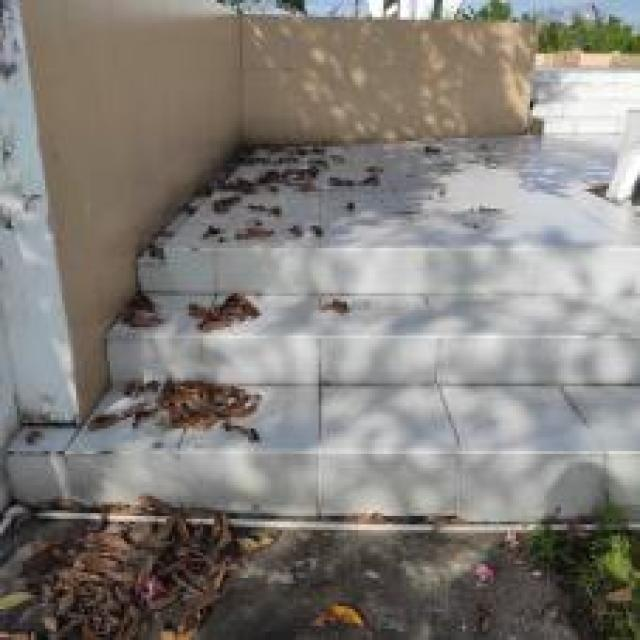upstair: (105, 218, 638, 562)
